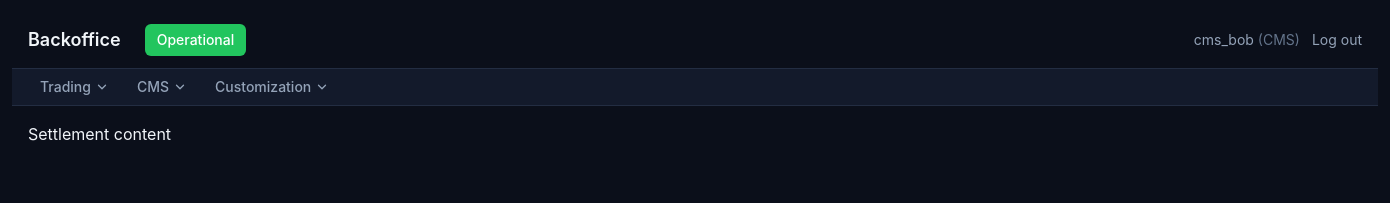
Test case: AppShell navigation groups › only shows the Trading group (Settlement) for a CMS-only staff member, not every group
Expected: the button "CMS" is shown, x1=125 y1=69 x2=199 y2=105
Expected: the button "Customization" is shown, x1=203 y1=69 x2=341 y2=105
Click the button "Trading" at (74, 87), box x1=28 y1=69 x2=121 y2=105
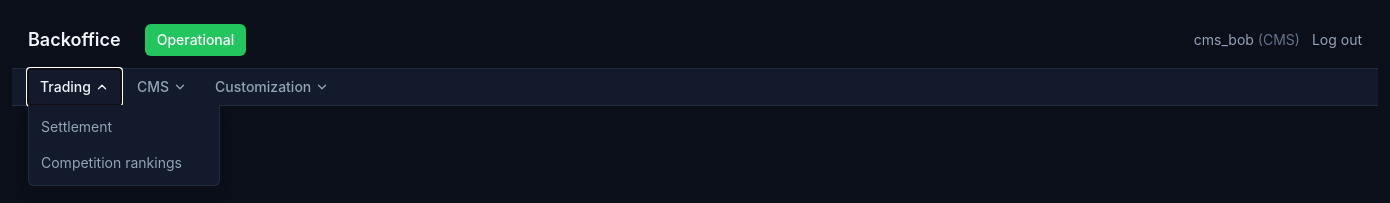
Expected: the link "Settlement" is shown, x1=41 y1=118 x2=112 y2=135
Expected: the link "Competition rankings" is shown, x1=41 y1=154 x2=182 y2=171
